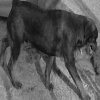faced: (28, 44, 75, 84)
